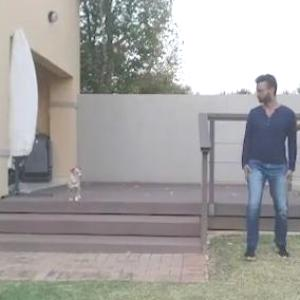follow: (236, 69, 292, 266)
